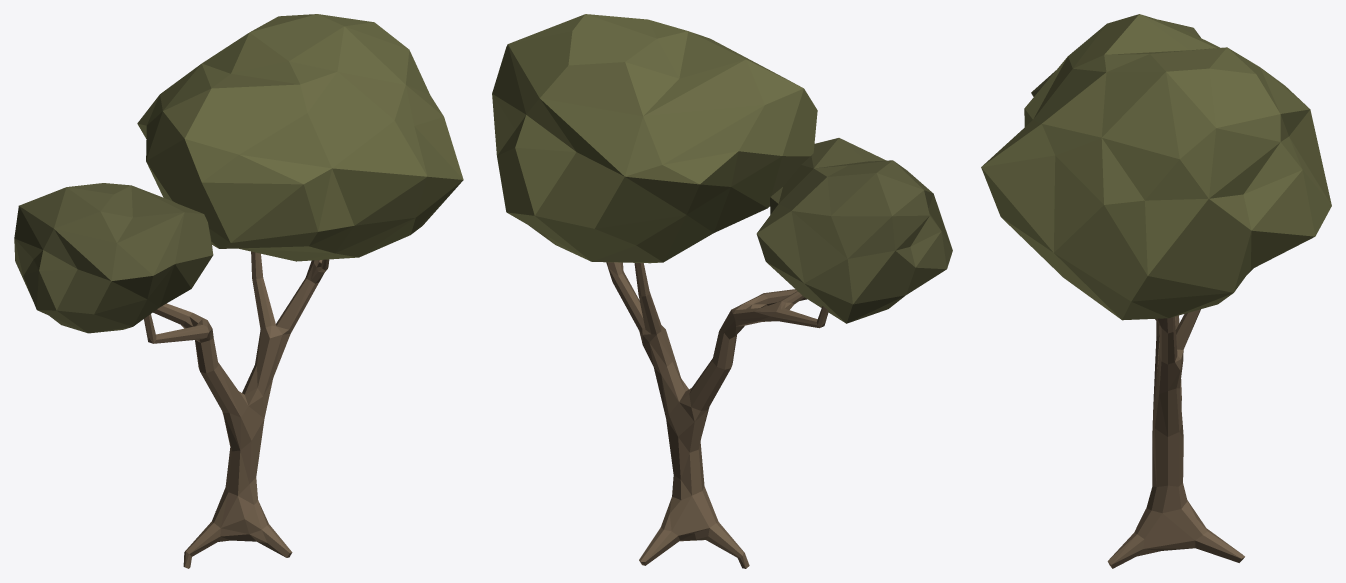
File: SM_Envr_Nature_Tree_05.fbx
3 views of the same model, side by side, from view 1: azimuth 30°, elevation 25°; view 2: azimuth 150°, elevation 25°; view 3: azimuth 270°, elevation 25° (orthographic). The views are drawn at different scales.
Visible parts, largest first — view 1: SM_Envr_Nature_Tree_05; view 2: SM_Envr_Nature_Tree_05; view 3: SM_Envr_Nature_Tree_05.
Part boxes in pixels (left/top/right/bottom): SM_Envr_Nature_Tree_05: left=14, top=14, right=463, bottom=568; SM_Envr_Nature_Tree_05: left=492, top=14, right=952, bottom=568; SM_Envr_Nature_Tree_05: left=981, top=14, right=1331, bottom=568.
Bounding box in the file's own units: 420 × 474 × 274.
